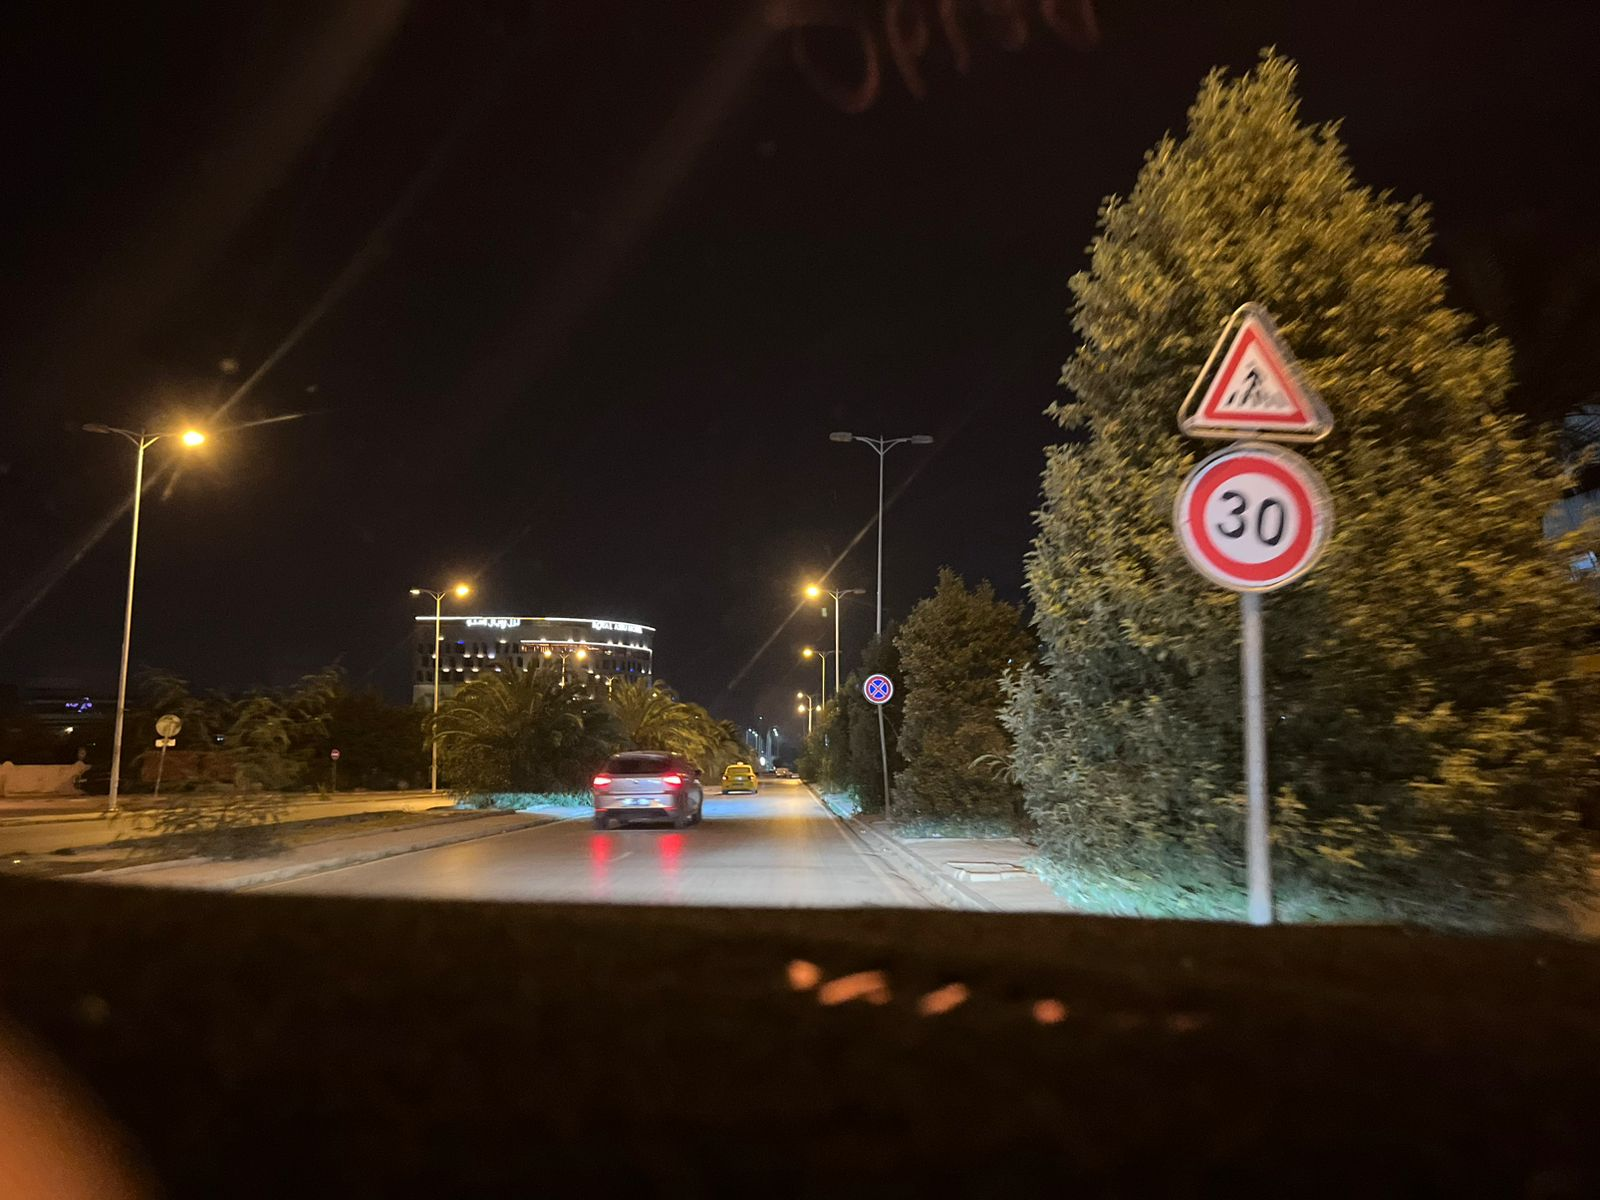SpeedLimit30: (1169, 440, 1337, 594)
